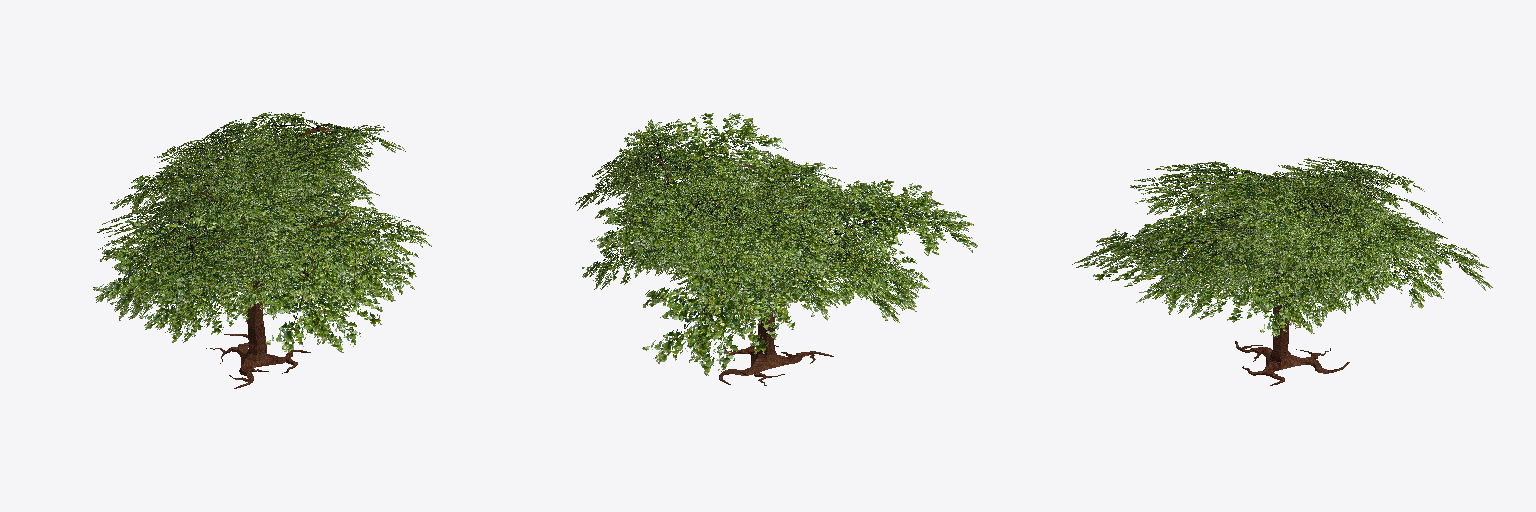
3 views of the same model, side by side, from view 1: azimuth 30°, elevation 25°; view 2: azimuth 150°, elevation 25°; view 3: azimuth 270°, elevation 25° (orthographic).
Parts seen in each view (by area): view 1: pPlane1 pPlane2 pPlane3 pPlane4 pPlane5 pPlane6 pPlane7 pPlane8 , polySurface1_curve25; view 2: pPlane1 pPlane2 pPlane3 pPlane4 pPlane5 pPlane6 pPlane7 pPlane8 , polySurface1_curve25; view 3: pPlane1 pPlane2 pPlane3 pPlane4 pPlane5 pPlane6 pPlane7 pPlane8 , polySurface1_curve25.
Part boxes in pixels (x1,y1,x2,y2): pPlane1 pPlane2 pPlane3 pPlane4 pPlane5 pPlane6 pPlane7 pPlane8 : (93,112,431,352); polySurface1_curve25: (171,127,352,388); pPlane1 pPlane2 pPlane3 pPlane4 pPlane5 pPlane6 pPlane7 pPlane8 : (575,113,977,375); polySurface1_curve25: (646,159,833,385); pPlane1 pPlane2 pPlane3 pPlane4 pPlane5 pPlane6 pPlane7 pPlane8 : (1072,157,1492,337); polySurface1_curve25: (1170,172,1375,385).
Size of the model in its own units: 86.97 by 55.81 by 107.
2 materials, 2 textured.